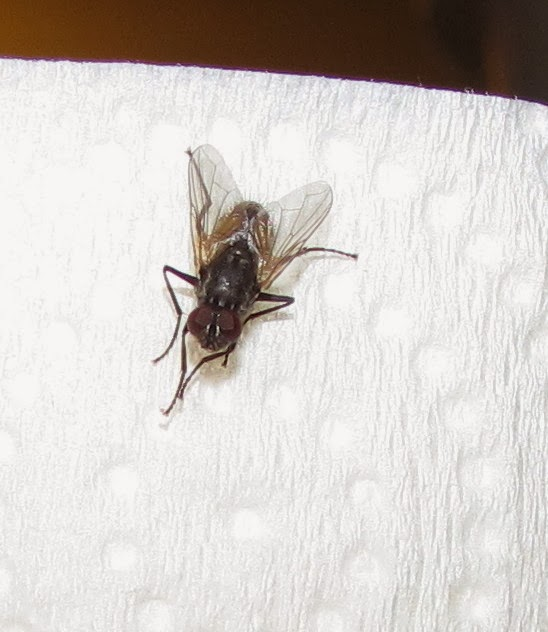house fly: (146, 137, 375, 434)
